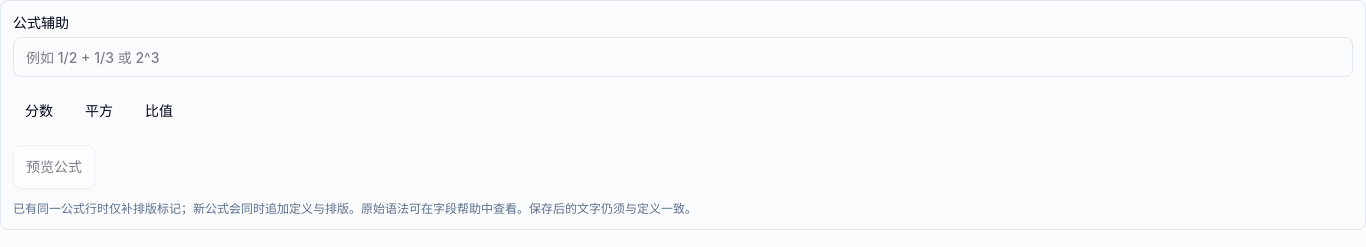
Test: serializes manual and automatic previews and aborts the superseded request
The image size is (1366, 247).
Type "2/3" into the field labelled "公式辅助" at (683,57), box [13,37,1353,77]
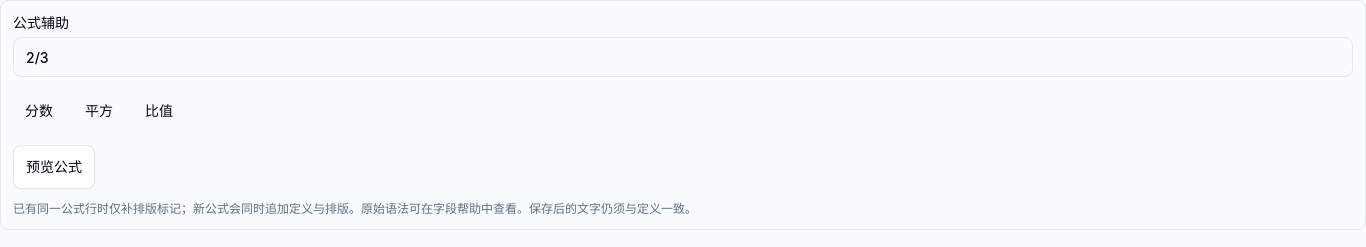
Click the button "预览公式" at (54,167), box [13,145,95,189]
Wait 400 ms
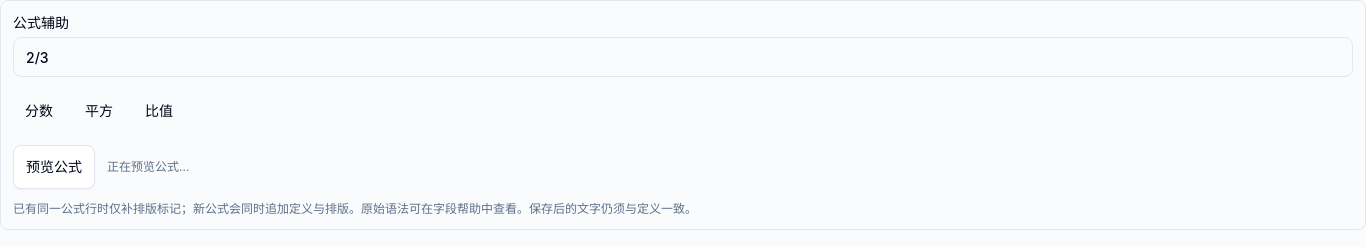
Replace the text in the field labelled "公式辅助" with "1/2" at (683,57), box [13,37,1353,77]
Wait 400 ms
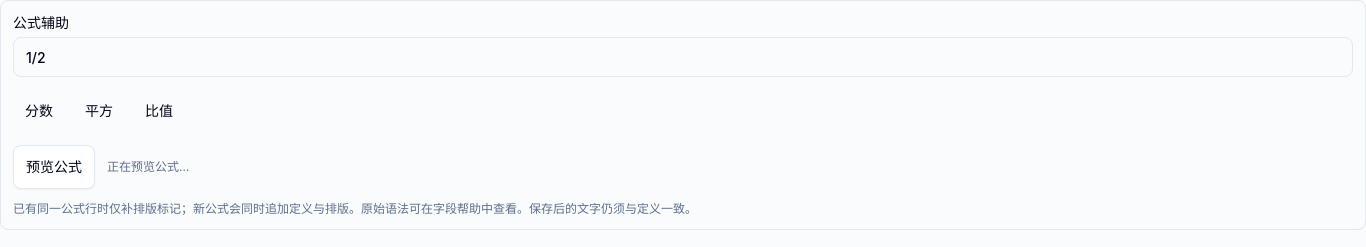
Click the button "预览公式" at (54,167), box [13,145,95,189]
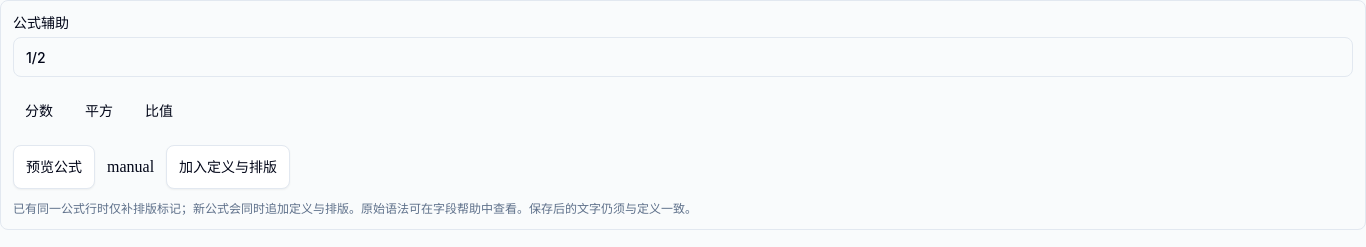
Result: the text named "公式 manual" is shown at [107,155,154,179]
